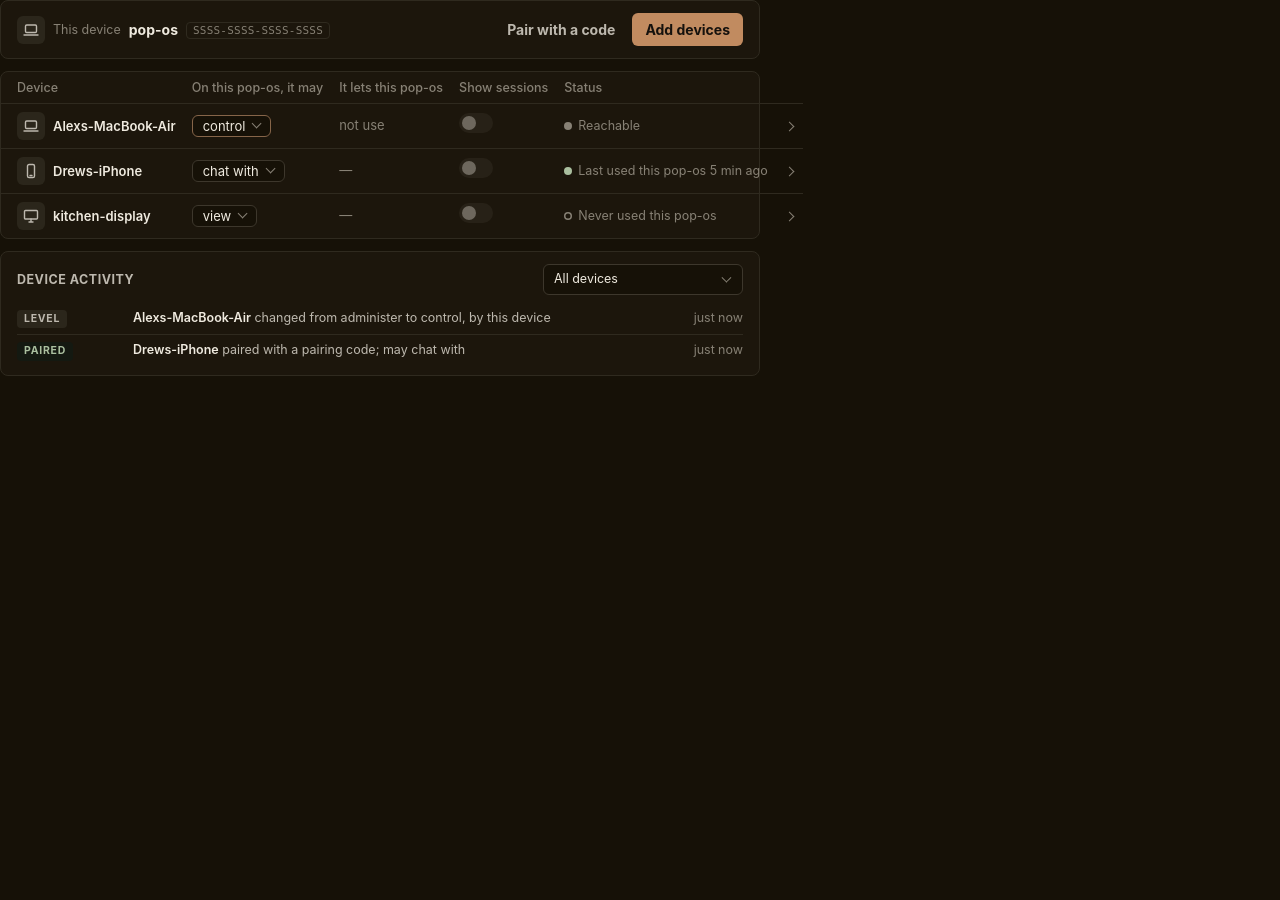
Test: PairedDevicesSection › this device's short fingerprint opens to the whole one, slashed zeros and all
Click the button named "Fingerprint SSSS-SSSS-SSSS-SSSS": (258, 30) [186,22,330,39]
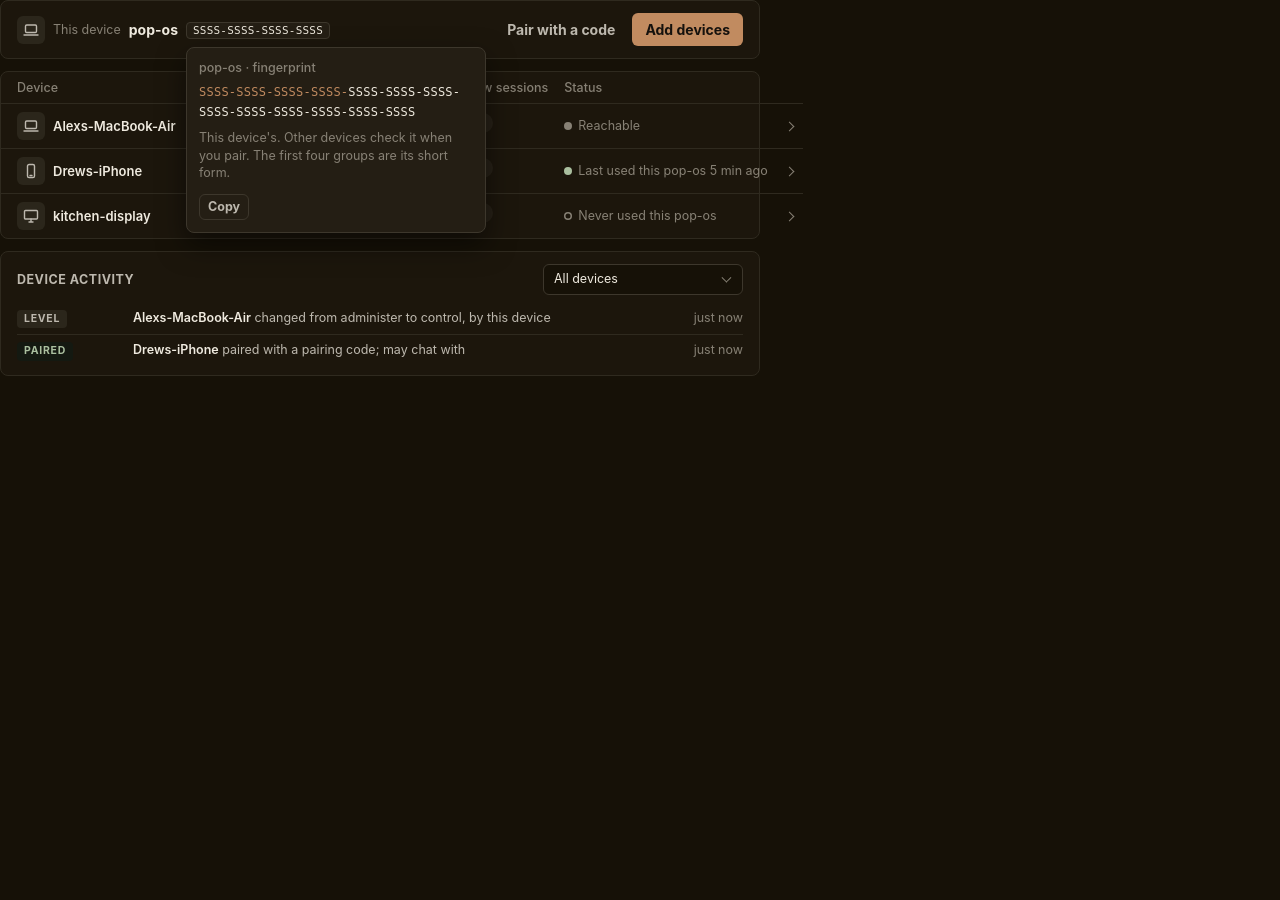
Check: the dialog named "pop-os fingerprint" shows "Other devices check it when you pair.", box [199,130,452,163]
